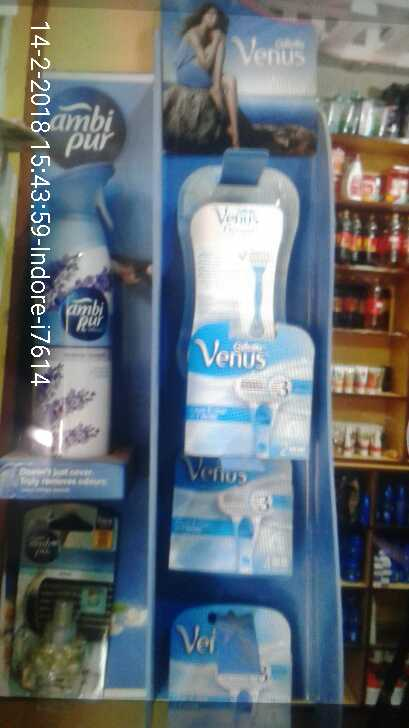beauty: (196, 325, 308, 454), (180, 452, 294, 573)
home: (35, 150, 111, 465)
